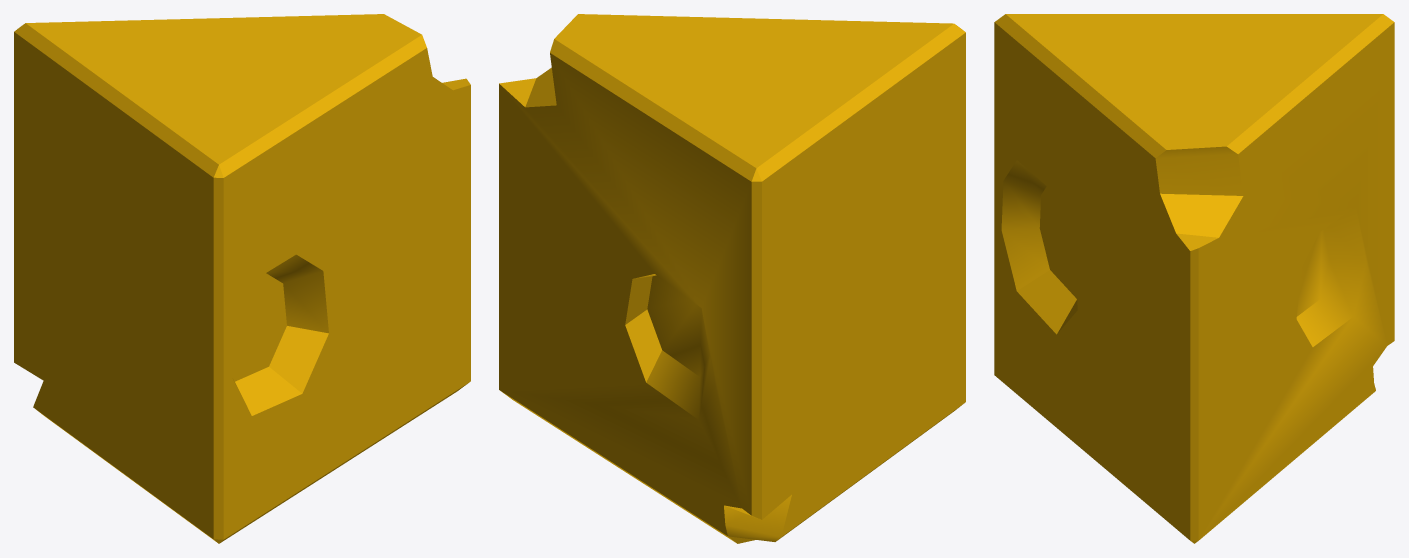
File: Cheese.fbx
3 views of the same model, side by side, from view 1: azimuth 30°, elevation 25°; view 2: azimuth 150°, elevation 25°; view 3: azimuth 270°, elevation 25° (orthographic). The views are drawn at different scales.
Parts seen in each view (by area): view 1: Cube; view 2: Cube; view 3: Cube.
Part boxes in pixels (bbox=[...]): Cube: bbox=[14, 14, 470, 543]; Cube: bbox=[499, 14, 965, 543]; Cube: bbox=[994, 14, 1394, 543].
Bounding box in the file's own units: 196 × 200 × 196.
